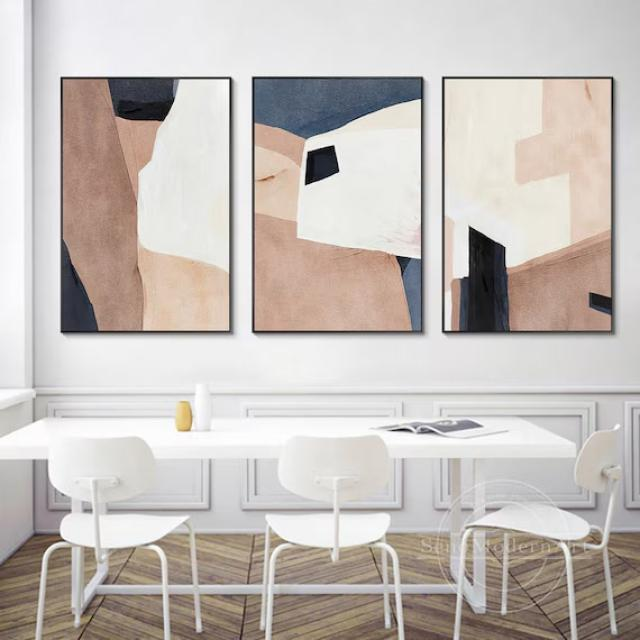painting: (252, 78, 425, 334), (60, 76, 232, 331), (442, 76, 614, 331)
